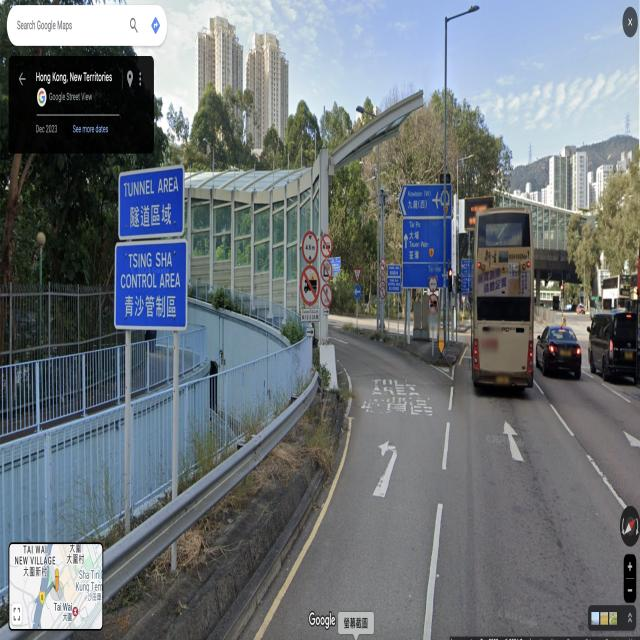Direction-Sign: (115, 239, 186, 329), (120, 164, 185, 237), (403, 218, 452, 272), (399, 183, 452, 216), (388, 265, 401, 292), (462, 259, 469, 295)
Order-Sign: (301, 267, 320, 305), (302, 234, 318, 263), (320, 258, 332, 283), (320, 235, 333, 257), (301, 307, 320, 322), (321, 285, 332, 306), (428, 294, 438, 314), (429, 276, 437, 290), (354, 285, 361, 299), (306, 328, 314, 338), (324, 309, 329, 315)
